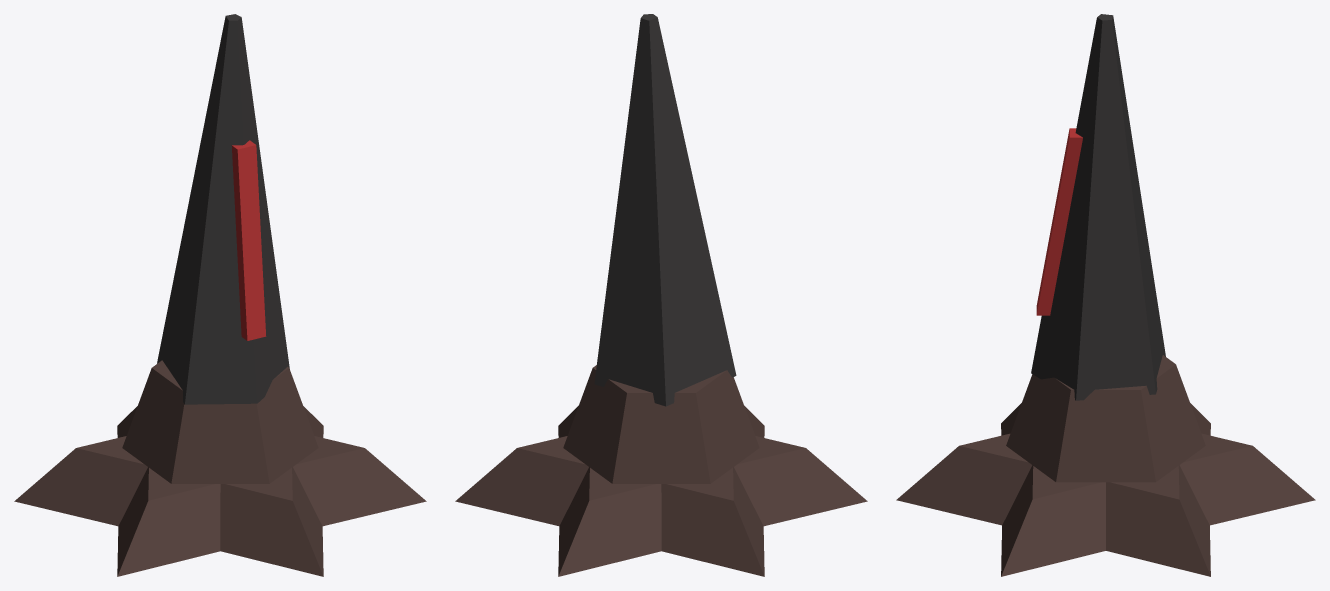
File: shard_beacon.obj
3 views of the same model, side by side, from view 1: azimuth 30°, elevation 25°; view 2: azimuth 150°, elevation 25°; view 3: azimuth 270°, elevation 25° (orthographic).
Parts seen in each view (by area): view 1: shard_beacon_0, shard_beacon_2, shard_beacon_1, shard_beacon_3; view 2: shard_beacon_0, shard_beacon_2, shard_beacon_1; view 3: shard_beacon_0, shard_beacon_2, shard_beacon_1, shard_beacon_3.
Part boxes in pixels (left/top/right/bottom): shard_beacon_0: left=14, top=406, right=426, bottom=576; shard_beacon_2: left=157, top=14, right=289, bottom=404; shard_beacon_1: left=122, top=360, right=318, bottom=483; shard_beacon_3: left=231, top=140, right=266, bottom=340; shard_beacon_0: left=455, top=405, right=867, bottom=576; shard_beacon_2: left=594, top=14, right=736, bottom=406; shard_beacon_1: left=563, top=365, right=759, bottom=483; shard_beacon_0: left=896, top=403, right=1315, bottom=576; shard_beacon_2: left=1031, top=14, right=1165, bottom=400; shard_beacon_1: left=1006, top=355, right=1205, bottom=482; shard_beacon_3: left=1036, top=128, right=1082, bottom=315.
Size of the model in its own units: 0.7274 by 1.08 by 0.84.
